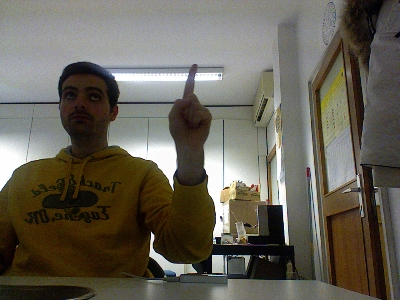食指: (166, 62, 213, 144)
